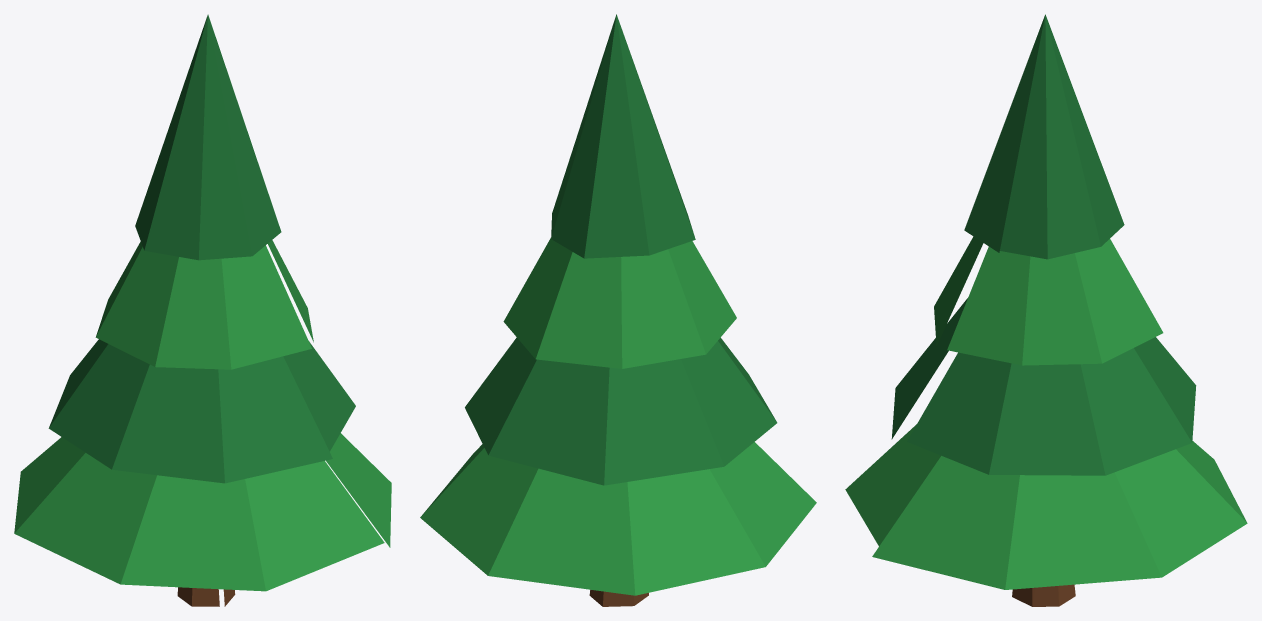
The model's file is pino_v3.glb.
3 views of the same model, side by side, from view 1: azimuth 30°, elevation 25°; view 2: azimuth 150°, elevation 25°; view 3: azimuth 270°, elevation 25° (orthographic).
Visible parts, largest first — view 1: copa_1, copa_2, copa_3, copa_4, tronco; view 2: copa_1, copa_2, copa_3, copa_4, tronco; view 3: copa_1, copa_2, copa_3, copa_4, tronco.
Part boxes in pixels (bbox=[...]): copa_1: bbox=[14, 433, 391, 591]; copa_2: bbox=[48, 339, 355, 483]; copa_3: bbox=[95, 240, 313, 369]; copa_4: bbox=[135, 14, 281, 260]; tronco: bbox=[177, 587, 235, 606]; copa_1: bbox=[420, 442, 816, 595]; copa_2: bbox=[465, 337, 777, 485]; copa_3: bbox=[503, 237, 736, 368]; copa_4: bbox=[551, 14, 695, 258]; tronco: bbox=[589, 589, 648, 606]; copa_1: bbox=[845, 424, 1247, 589]; copa_2: bbox=[891, 298, 1196, 475]; copa_3: bbox=[934, 236, 1163, 365]; copa_4: bbox=[964, 14, 1124, 259]; tronco: bbox=[1012, 584, 1075, 606].
Bounding box in the file's own units: 4.05 × 6.71 × 4.2.
